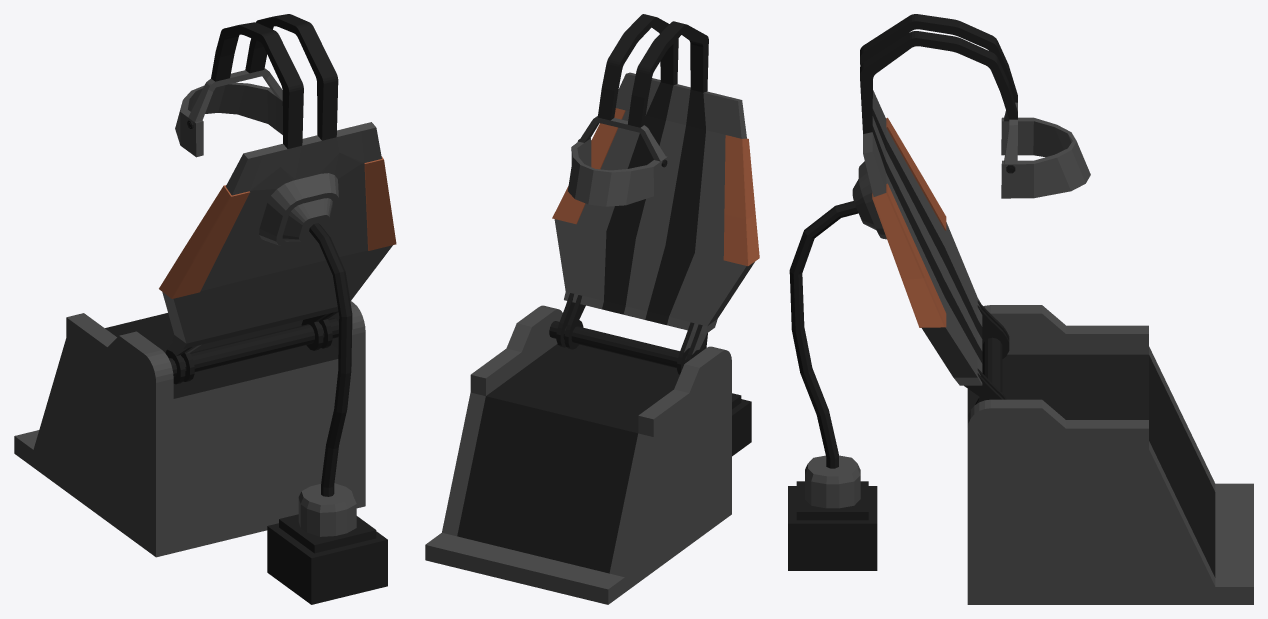
Rendered from console.fbx.
The picture shows the model from 3 angles, left to right: view 1: azimuth 30°, elevation 25°; view 2: azimuth 150°, elevation 25°; view 3: azimuth 270°, elevation 25°; orthographic projection. The views are drawn at different scales.
Parts seen in each view (by area): view 1: console; view 2: console; view 3: console.
Boxes of the visible parts, x1=… form: console: x1=14, y1=14, x2=396, y2=604; console: x1=425, y1=14, x2=759, y2=604; console: x1=788, y1=14, x2=1253, y2=604.
Bounding box in the file's own units: 2.34 × 4.16 × 5.2.
